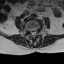CCS_normal: (32, 28, 34, 37)
LFS_normal: (36, 28, 38, 34)
LLS_normal: (34, 28, 36, 36)
RFS_stenosis: (28, 28, 30, 35)
RLS_normal: (30, 28, 32, 36)
